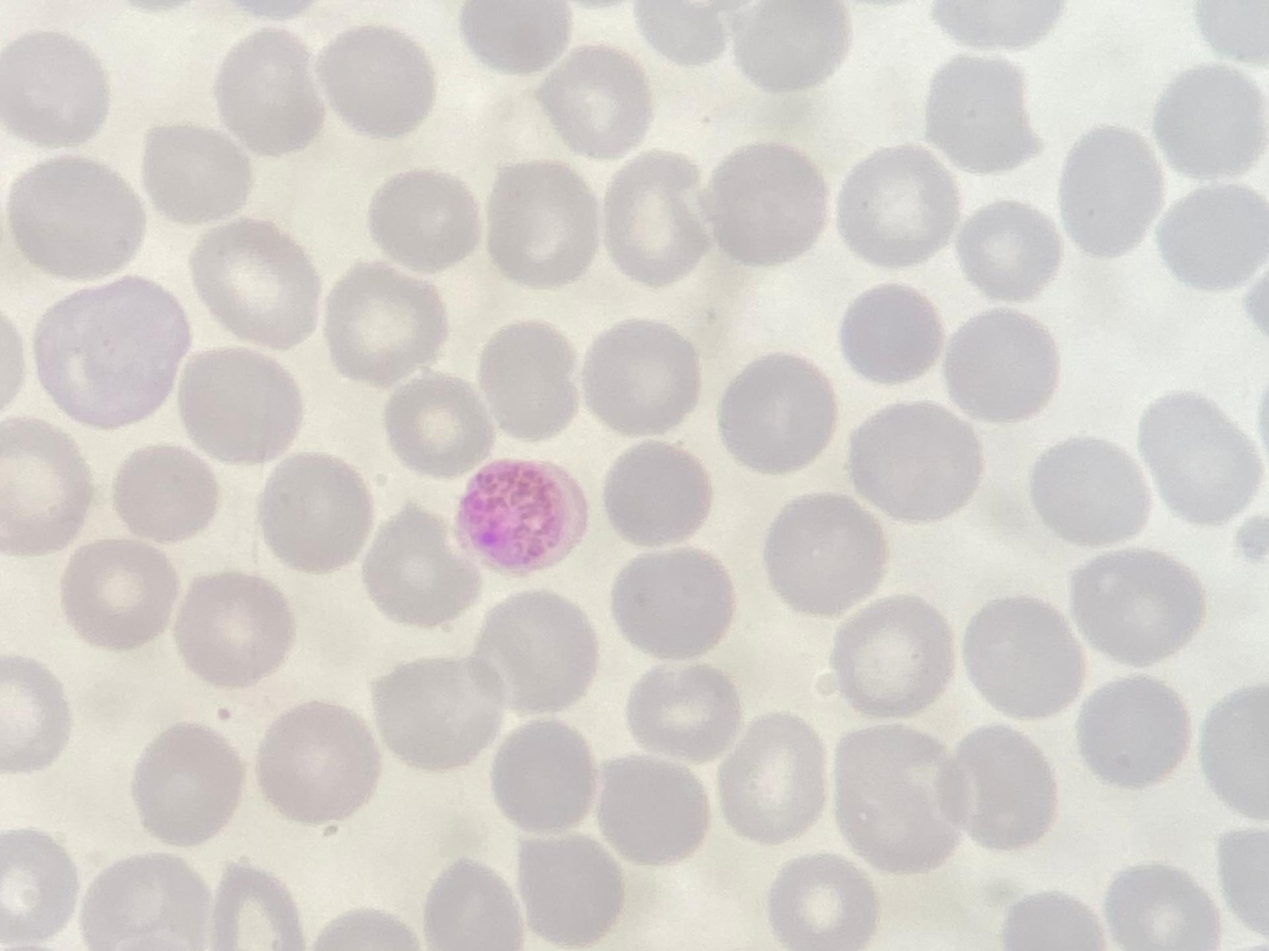Infected: (457, 456, 583, 569)
Uninfected: (35, 276, 192, 427), (831, 724, 965, 870), (9, 153, 145, 280), (189, 218, 321, 344), (846, 401, 981, 523), (1069, 547, 1205, 668), (1137, 392, 1260, 525), (702, 141, 828, 267), (375, 654, 510, 771), (962, 594, 1087, 718), (473, 590, 598, 712), (322, 258, 446, 380), (254, 701, 376, 825), (836, 143, 960, 264), (178, 346, 305, 464), (600, 151, 714, 282), (361, 505, 483, 627), (831, 596, 954, 716), (716, 352, 838, 471), (1058, 126, 1169, 256), (580, 319, 702, 437), (762, 494, 884, 612), (489, 155, 598, 287), (130, 722, 245, 847), (256, 451, 374, 572), (213, 30, 328, 154), (610, 546, 736, 659), (946, 723, 1058, 849), (923, 55, 1042, 173), (315, 24, 436, 139), (714, 716, 824, 842), (1029, 435, 1153, 546), (61, 535, 178, 651), (1149, 60, 1266, 176), (173, 572, 291, 686), (943, 307, 1060, 421), (1152, 180, 1269, 293), (1075, 678, 1190, 791), (1, 29, 110, 147), (477, 319, 584, 439), (81, 851, 209, 951), (537, 45, 651, 157), (487, 718, 598, 832), (594, 754, 709, 864), (511, 833, 622, 945), (601, 440, 716, 546), (838, 281, 949, 386), (1, 419, 91, 548), (142, 122, 254, 225), (111, 441, 221, 545), (624, 662, 739, 760), (734, 1, 850, 93), (954, 200, 1059, 298), (388, 380, 494, 477), (767, 853, 874, 948), (375, 177, 483, 271), (1198, 679, 1268, 817), (422, 858, 528, 949), (1102, 864, 1213, 948), (0, 829, 77, 938), (459, 1, 567, 74), (2, 657, 71, 770), (212, 870, 297, 950)
